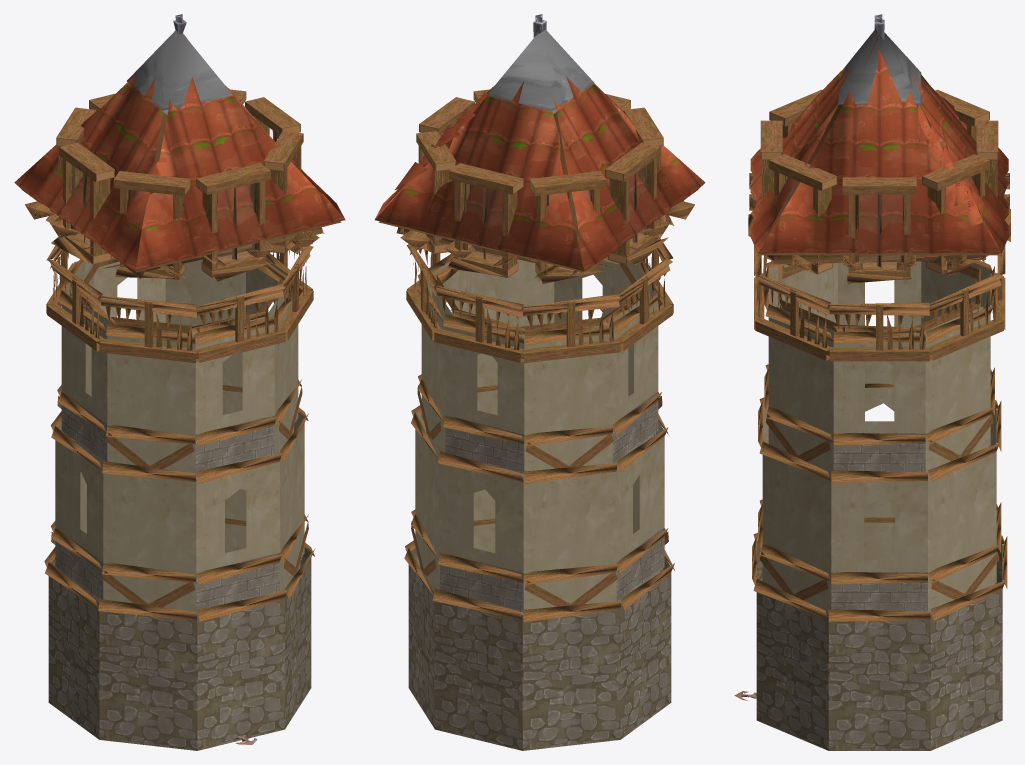
File: Lighthouse.low.gltf
3 renders of one model, left to right at view 1: azimuth 30°, elevation 25°; view 2: azimuth 150°, elevation 25°; view 3: azimuth 270°, elevation 25°, orthographic.
Parts seen in each view (by area): view 1: Wall_UnevenBrick_Straight (×5), Wall_Plaster_Straight (×8), Roof_Tower_RoundTiles, Wall_Plaster_Window_Thin_Round (×6), Window_Wide_Flat1 (×6), Balcony_Simple_Straight (×5); view 2: Wall_UnevenBrick_Straight (×5), Wall_Plaster_Straight (×7), Roof_Tower_RoundTiles, Wall_Plaster_Window_Thin_Round (×6), Window_Wide_Flat1 (×6), Balcony_Simple_Straight (×5); view 3: Wall_Plaster_Straight (×6), Wall_UnevenBrick_Straight (×4), Roof_Tower_RoundTiles, Wall_Plaster_Window_Thin_Round (×5), Window_Wide_Flat1 (×7), Balcony_Simple_Straight (×5).
Part boxes in pixels (left/top/right/bottom): Wall_UnevenBrick_Straight (×5): left=45, top=518, right=315, bottom=750; Wall_Plaster_Straight (×8): left=51, top=250, right=308, bottom=612; Roof_Tower_RoundTiles: left=14, top=14, right=345, bottom=278; Wall_Plaster_Window_Thin_Round (×6): left=51, top=253, right=301, bottom=612; Window_Wide_Flat1 (×6): left=46, top=97, right=303, bottom=281; Balcony_Simple_Straight (×5): left=46, top=245, right=313, bottom=363; Wall_UnevenBrick_Straight (×5): left=404, top=518, right=674, bottom=750; Wall_Plaster_Straight (×7): left=411, top=250, right=662, bottom=609; Roof_Tower_RoundTiles: left=374, top=14, right=705, bottom=277; Wall_Plaster_Window_Thin_Round (×6): left=418, top=250, right=668, bottom=612; Window_Wide_Flat1 (×6): left=416, top=97, right=673, bottom=283; Balcony_Simple_Straight (×5): left=406, top=237, right=673, bottom=363; Wall_Plaster_Straight (×6): left=759, top=260, right=999, bottom=611; Wall_UnevenBrick_Straight (×4): left=753, top=517, right=1005, bottom=750; Roof_Tower_RoundTiles: left=749, top=14, right=1009, bottom=272; Wall_Plaster_Window_Thin_Round (×5): left=831, top=261, right=1001, bottom=611; Window_Wide_Flat1 (×7): left=748, top=89, right=1010, bottom=283; Balcony_Simple_Straight (×5): left=754, top=245, right=1005, bottom=361.
Size of the model in its own units: 5.23 by 15.03 by 5.52.
Materials: 9 (8 with a texture image).
